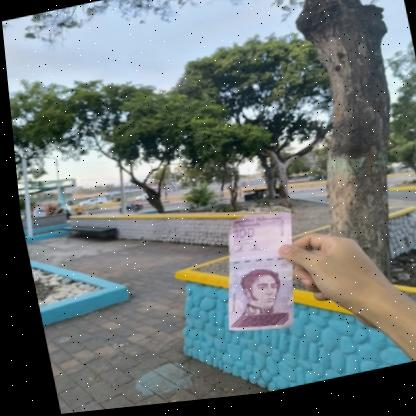one_hundred-front-vef: (201, 210, 307, 344)
